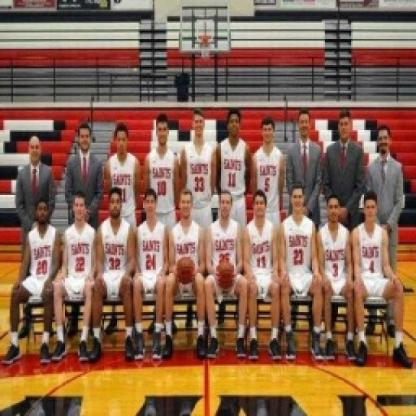basketball: (209, 258, 238, 294), (173, 256, 197, 284)
